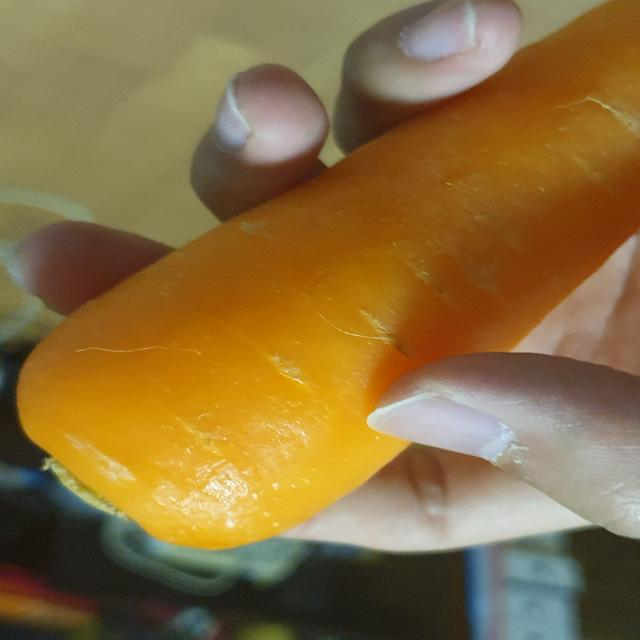carrot: (3, 0, 640, 560)
